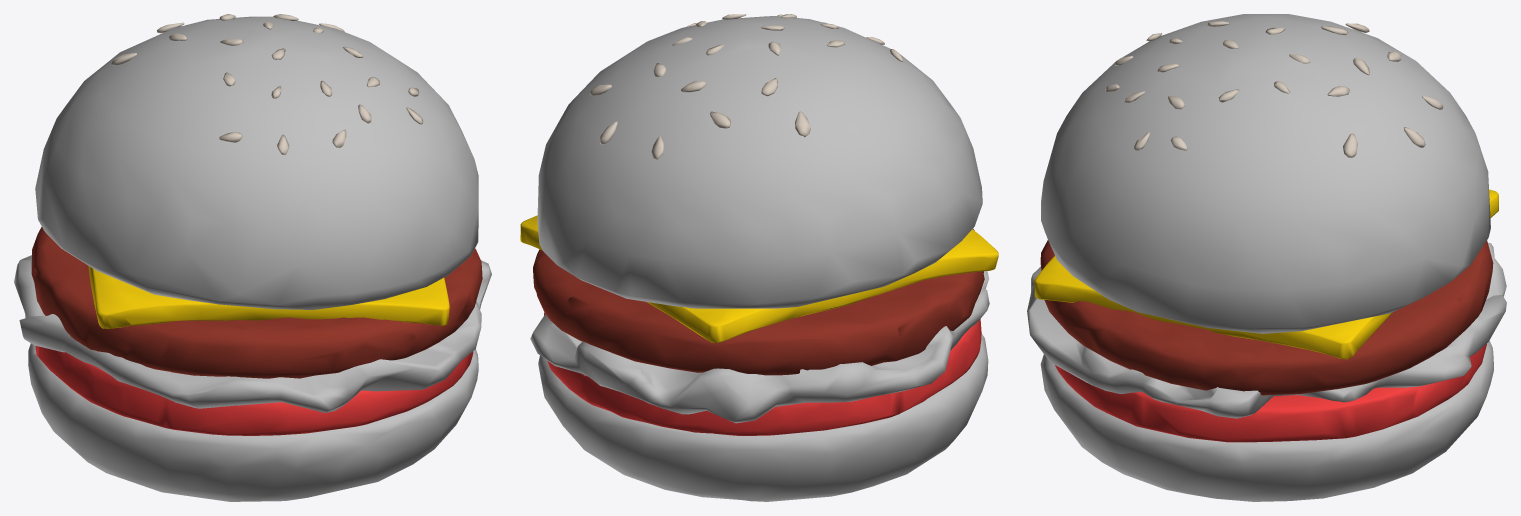
The model's file is Avoguesa.fbx.
3 renders of one model, left to right at view 1: azimuth 30°, elevation 25°; view 2: azimuth 150°, elevation 25°; view 3: azimuth 270°, elevation 25°, orthographic.
Parts seen in each view (by area): view 1: Sphere001, bread_base, beef, Lettuce, group1, cheef, Sesame; view 2: Sphere001, bread_base, beef, Lettuce, group1, cheef, Sesame; view 3: Sphere001, bread_base, beef, group1, Lettuce, cheef, Sesame.
Part boxes in pixels (x1=…): Sphere001: x1=35, y1=16, x2=478, y2=309; bread_base: x1=28, y1=343, x2=478, y2=501; beef: x1=31, y1=227, x2=482, y2=378; Lettuce: x1=14, y1=255, x2=491, y2=412; group1: x1=35, y1=346, x2=473, y2=435; cheef: x1=88, y1=266, x2=449, y2=328; Sesame: x1=111, y1=14, x2=423, y2=154; Sphere001: x1=537, y1=16, x2=982, y2=308; bread_base: x1=538, y1=333, x2=988, y2=501; beef: x1=533, y1=229, x2=984, y2=375; Lettuce: x1=530, y1=271, x2=989, y2=423; group1: x1=544, y1=312, x2=981, y2=435; cheef: x1=520, y1=215, x2=998, y2=343; Sesame: x1=590, y1=14, x2=903, y2=159; Sphere001: x1=1041, y1=14, x2=1490, y2=333; bread_base: x1=1040, y1=340, x2=1493, y2=501; beef: x1=1040, y1=240, x2=1493, y2=395; group1: x1=1055, y1=343, x2=1486, y2=442; Lettuce: x1=1027, y1=242, x2=1506, y2=418; cheef: x1=1034, y1=189, x2=1498, y2=359; Sesame: x1=1105, y1=20, x2=1443, y2=157.
Bounding box in the file's own units: 63.42 × 58.17 × 62.32.
